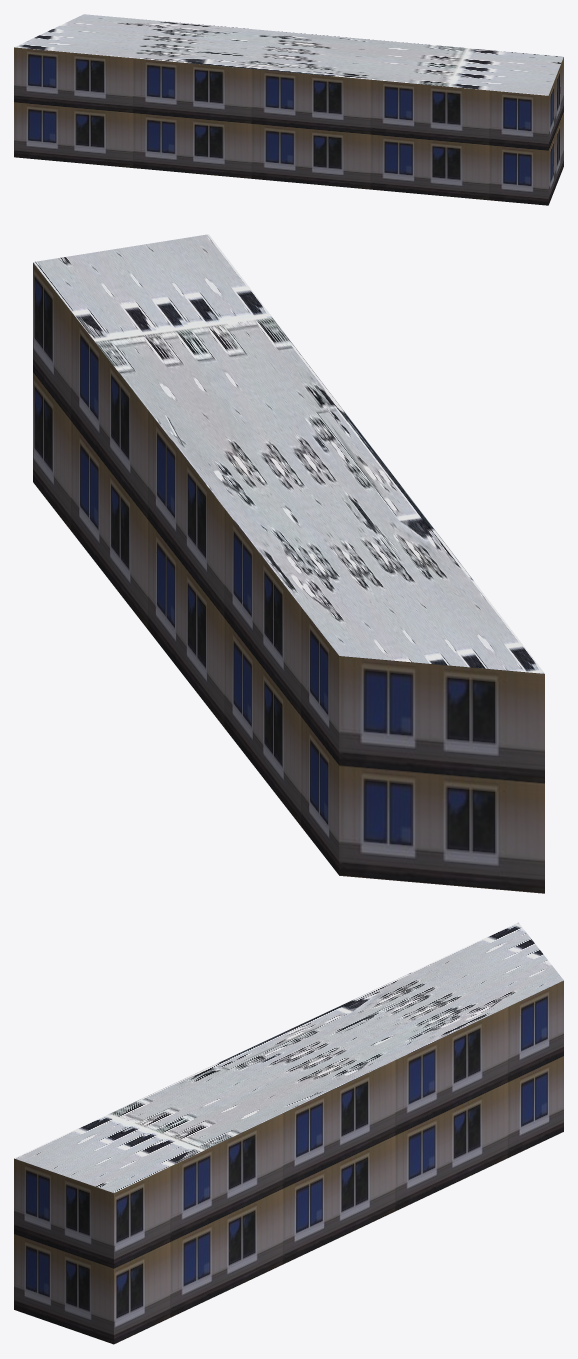
Rendered from ResTex__220.fbx.
3 renders of one model, top to bottom at view 1: azimuth 30°, elevation 25°; view 2: azimuth 150°, elevation 25°; view 3: azimuth 270°, elevation 25°, orthographic. The views are drawn at different scales.
Parts seen in each view (by area): view 1: CityEngineMaterial_5_m, CityEngineMaterial_4_m; view 2: CityEngineMaterial_5_m, CityEngineMaterial_4_m; view 3: CityEngineMaterial_5_m, CityEngineMaterial_4_m.
Boxes of the visible parts, bbox=[...] form: CityEngineMaterial_5_m: bbox=[14, 47, 563, 205]; CityEngineMaterial_4_m: bbox=[14, 14, 563, 95]; CityEngineMaterial_5_m: bbox=[33, 263, 544, 893]; CityEngineMaterial_4_m: bbox=[33, 234, 544, 673]; CityEngineMaterial_5_m: bbox=[14, 980, 563, 1344]; CityEngineMaterial_4_m: bbox=[14, 922, 563, 1192].
Size of the model in its own units: 23.03 by 6 by 19.76.
2 materials, 2 textured.
